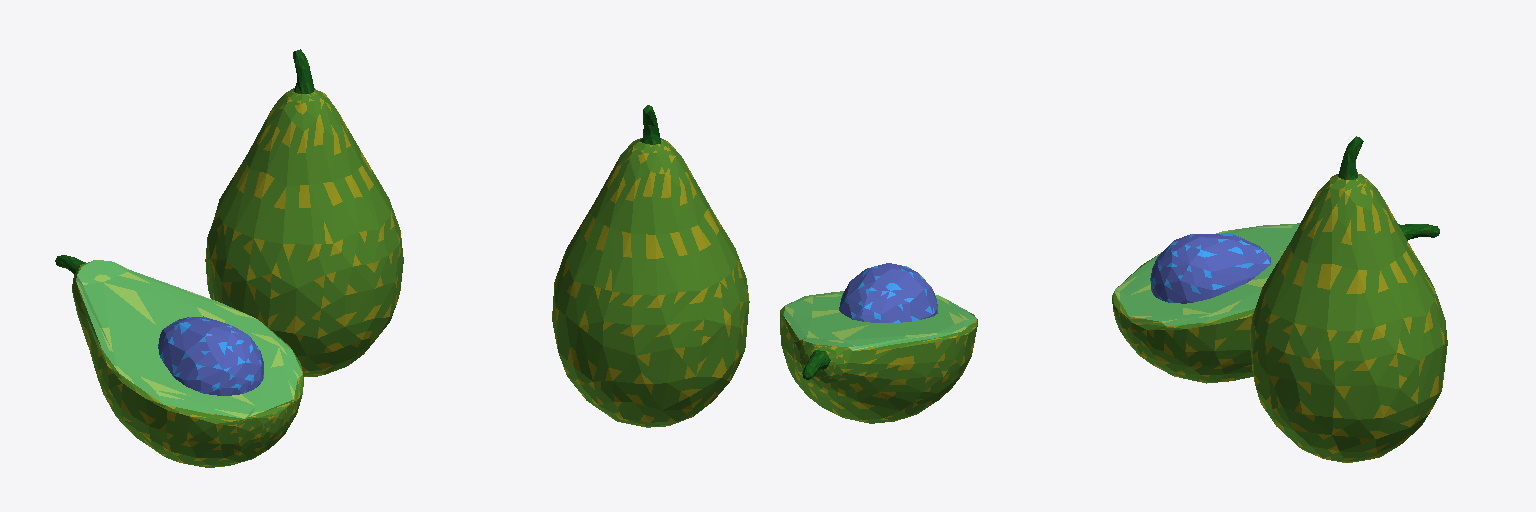
The picture shows the model from 3 angles: view 1: azimuth 30°, elevation 25°; view 2: azimuth 150°, elevation 25°; view 3: azimuth 270°, elevation 25°; orthographic projection.
Parts seen in each view (by area): view 1: Cylinder.009_Cylinder.020; view 2: Cylinder.009_Cylinder.020; view 3: Cylinder.009_Cylinder.020.
Boxes of the visible parts, <box> form: Cylinder.009_Cylinder.020: <box>55,49,403,467</box>; Cylinder.009_Cylinder.020: <box>552,105,977,427</box>; Cylinder.009_Cylinder.020: <box>1112,136,1447,462</box>.
Bounding box in the file's own units: 0.9683 × 0.8749 × 0.8372.
Materials: 1 (1 with a texture image).